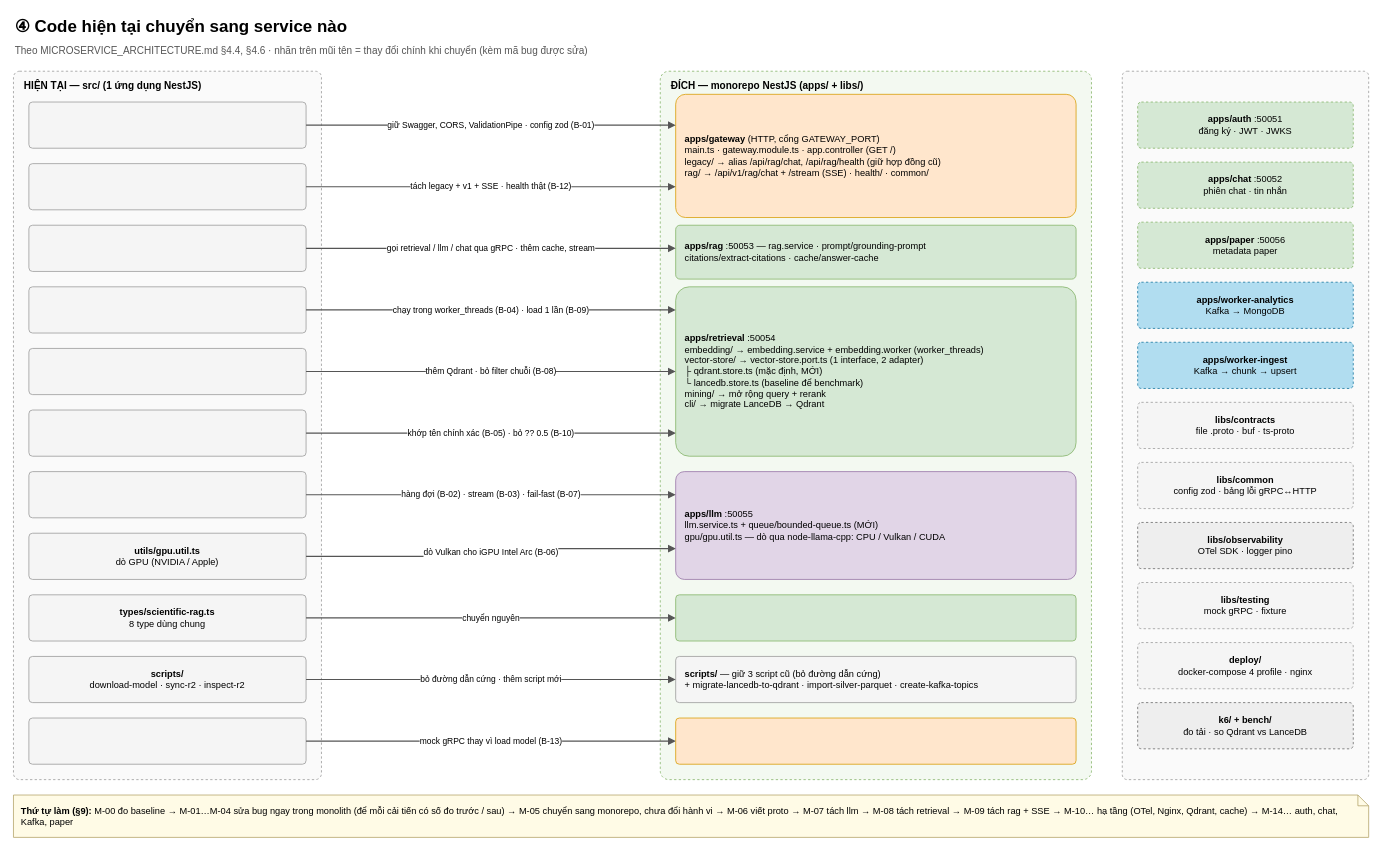
The diagram is 1382 pixels wide and 851 high, and some of its shapes have lost their labels. Here are the shapes that lost their labels. From the top down, the box of each, then its label:
(28, 101, 306, 148): main.ts · app.module.ts app.controller / app.service (GET /)
(28, 163, 306, 210): rag/rag.controller.ts · rag/dto/ POST /api/rag/chat · GET /api/rag/health
(28, 224, 306, 271): rag/rag.service.ts điều phối 6 bước · prompt · extractCitations
(28, 286, 306, 333): embedding/ nomic v1.5 (@xenova/transformers)
(28, 348, 306, 395): vector-store/ LanceDB (local / R2)
(28, 409, 306, 456): mining/ FP-Growth expand · PageRank rerank
(1122, 70, 1369, 780): MỚI HOÀN TOÀN — chưa có code cũ
(28, 471, 306, 518): llm/llm.service.ts node-llama-cpp · Qwen GGUF
(675, 594, 1076, 641): libs/types — scientific-rag.ts (nguồn type cho DTO, ánh xạ với proto)
(28, 717, 306, 764): test/app.e2e-spec.ts khởi động cả AppModule (chậm)
(675, 717, 1076, 764): apps/gateway/test — e2e dùng mock gRPC client, không cần load model
